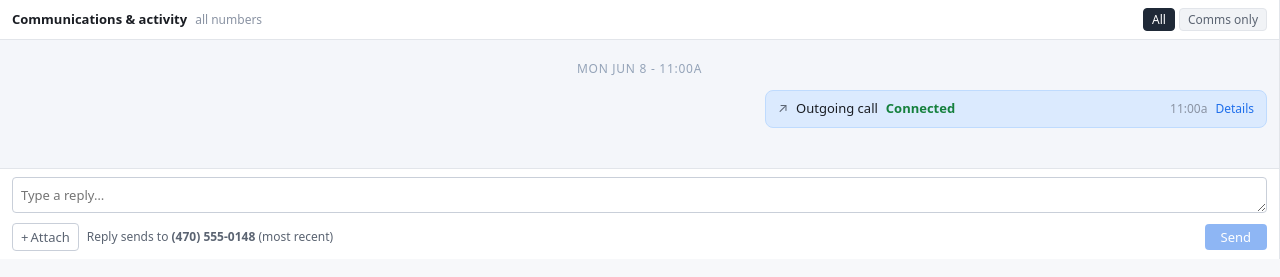
Scenario: Timeline call cards - direction › hides the party number behind a Details BUTTON and reveals it on click
Click the button with aria-label "Details for Outgoing call". click: (1235, 109)
box: 1216,100 -> 1254,117
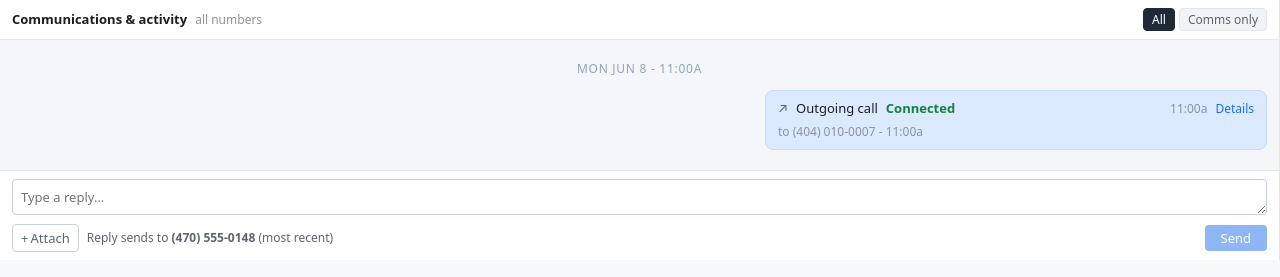
Check: the text "to (404) 010-0007 - 11:00a" is shown, box 778,122 -> 923,140
